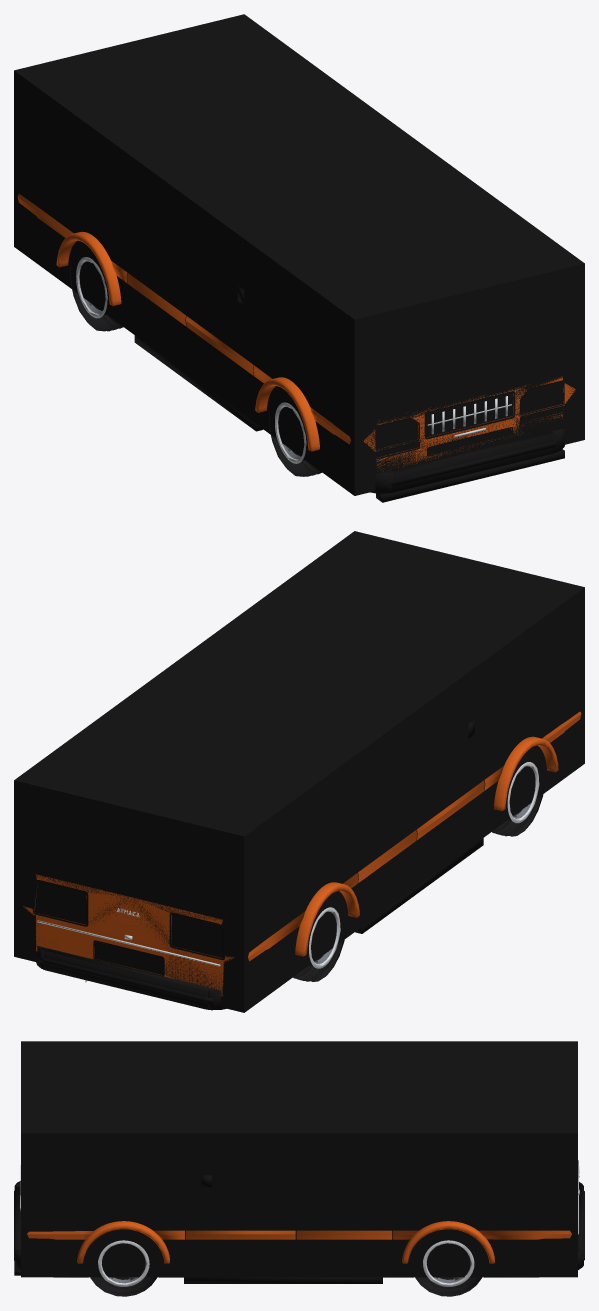
Rendered from atmaca_modified_lod1.glb.
3 views of the same model, one above another, from view 1: azimuth 30°, elevation 25°; view 2: azimuth 150°, elevation 25°; view 3: azimuth 270°, elevation 25° (orthographic). The views are drawn at different scales.
Parts seen in each view (by area): view 1: col_body, trim, body, wheel_RR, wheel_FR; view 2: col_body, body, trim, wheel_RR, wheel_FR; view 3: col_body, body, trim, wheel_FL, wheel_RL.
Boxes of the visible parts, left/top/right/bottom form: col_body: left=14, top=14, right=584, bottom=495; trim: left=134, top=286, right=564, bottom=502; body: left=17, top=194, right=575, bottom=471; wheel_RR: left=70, top=255, right=123, bottom=331; wheel_FR: left=269, top=402, right=321, bottom=476; col_body: left=14, top=531, right=584, bottom=1012; body: left=23, top=711, right=581, bottom=996; trim: left=32, top=719, right=483, bottom=1010; wheel_RR: left=293, top=907, right=346, bottom=981; wheel_FR: left=492, top=762, right=544, bottom=836; col_body: left=21, top=1041, right=577, bottom=1277; body: left=27, top=1221, right=571, bottom=1277; trim: left=14, top=1160, right=584, bottom=1283; wheel_FL: left=90, top=1240, right=157, bottom=1296; wheel_RL: left=415, top=1240, right=481, bottom=1296.
Bounding box in the file's own units: 1.77 × 1.37 × 4.31.
